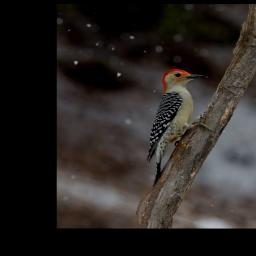Woodpecker: (127, 64, 232, 196)
